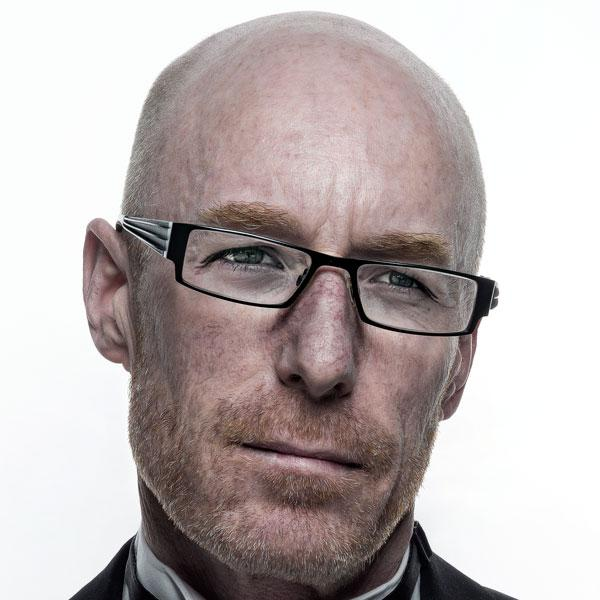Eyes: (198, 227, 295, 289), (361, 255, 442, 309)
